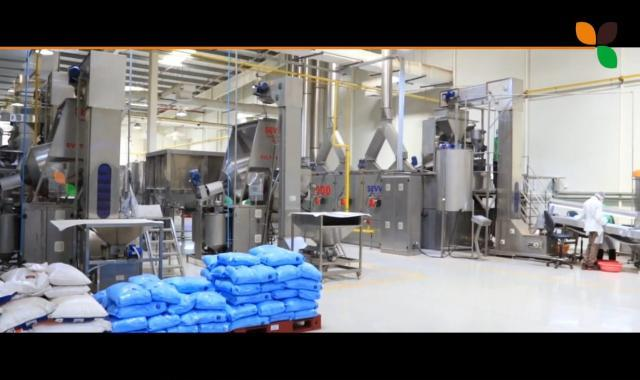Hairnet: (596, 191, 604, 198)
No_Apron: (585, 200, 601, 231)
